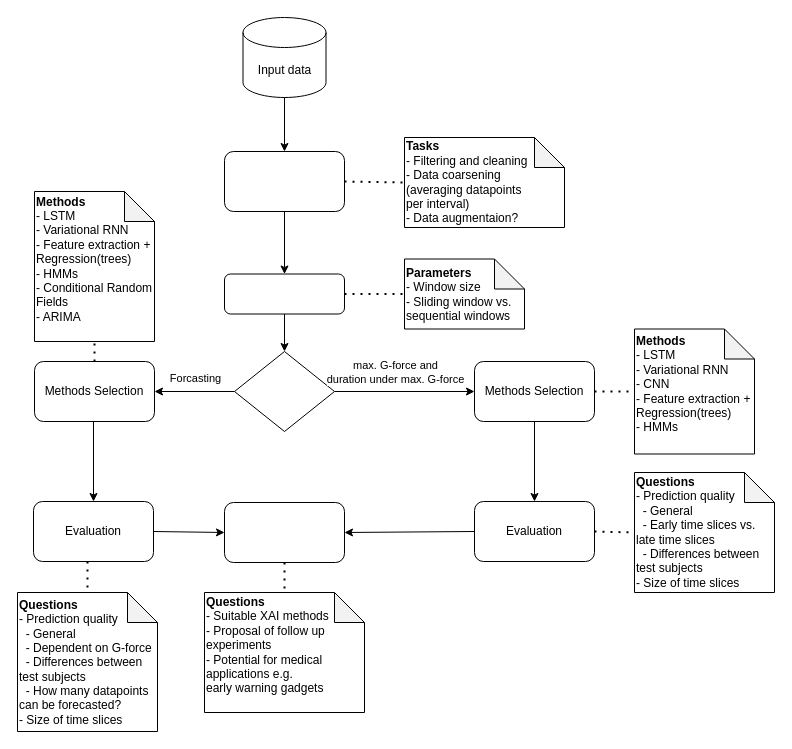
Some shapes in this 792 by 749 pixel diagram are drawn without their labels. Each missing label, with the centre of its shape:
Interpretation and Explanation: (x=284, y=532)
Objectives: (x=284, y=391)
Proprocessing: (x=284, y=181)
Windowing: (x=284, y=293)
